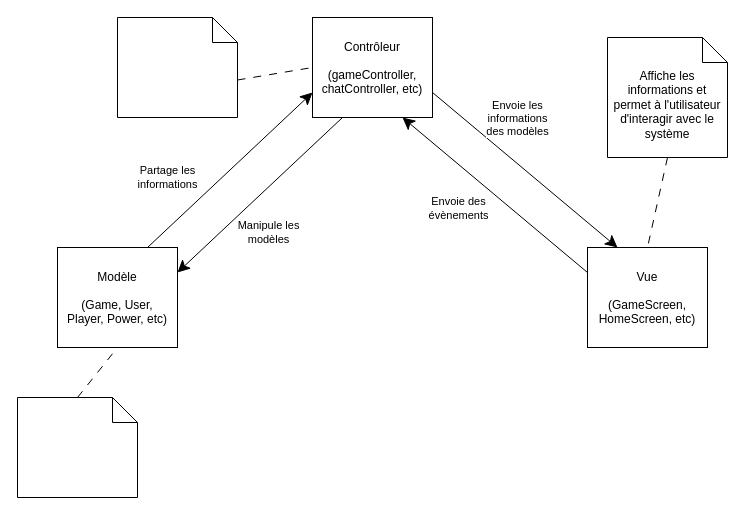
Some shapes in this 745 by 515 pixel diagram are drawn without their labels. Here are the shapes that lost their labels. From the top down, the box of each, then its label:
(116, 16, 238, 118): Gère les interactions utilisateur et transmet les informations des modèles
(16, 396, 138, 498): Stocke les données des différents objets et rend accessible leurs informations
